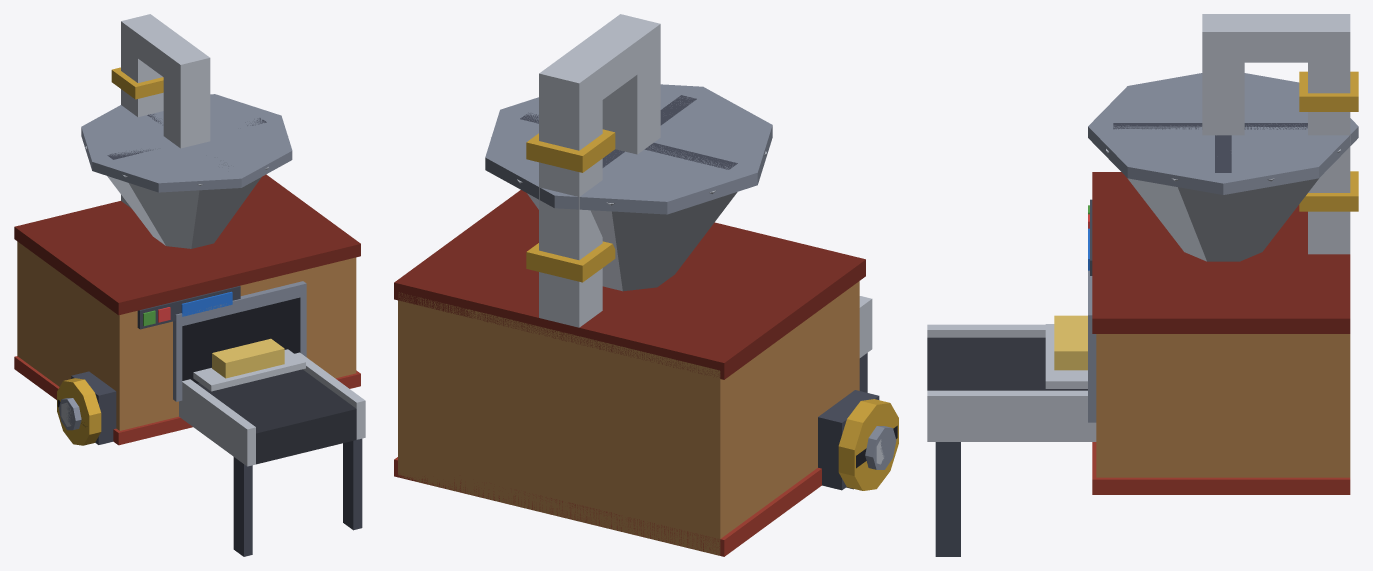
Rendered from feed-intake-left.glb.
3 views of the same model, side by side, from view 1: azimuth 30°, elevation 25°; view 2: azimuth 150°, elevation 25°; view 3: azimuth 270°, elevation 25° (orthographic). The views are drawn at different scales.
Parts seen in each view (by area): view 1: feed-intake-left, spin-x; view 2: feed-intake-left, spin-x, spin-up; view 3: feed-intake-left, spin-up.
Part boxes in pixels (x1=…): feed-intake-left: x1=14, y1=14, x2=365, y2=556; spin-x: x1=57, y1=378, x2=101, y2=445; feed-intake-left: x1=394, y1=14, x2=884, y2=556; spin-x: x1=838, y1=399, x2=898, y2=490; spin-up: x1=520, y1=95, x2=737, y2=169; feed-intake-left: x1=927, y1=14, x2=1358, y2=556; spin-up: x1=1113, y1=123, x2=1307, y2=172.
Bounding box in the file's own units: 0.93 × 1.3 × 1.02.
Materials: 3 (3 with a texture image).
